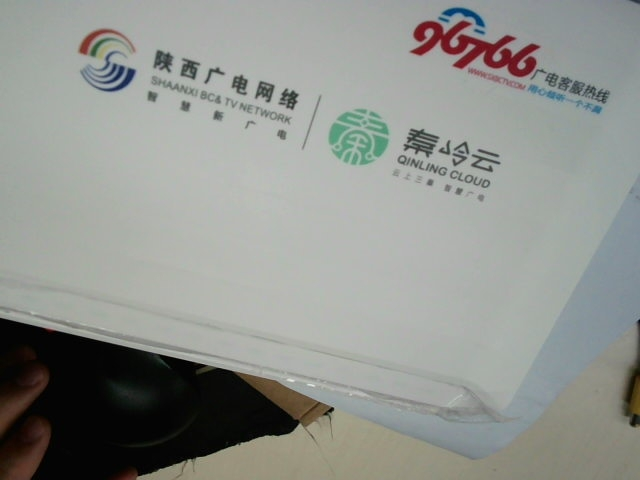AE_QinLing: (324, 88, 515, 212)
